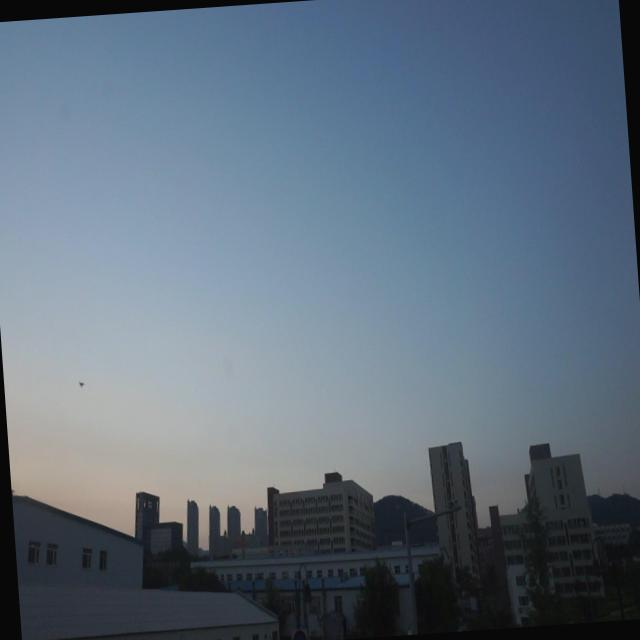drone: (76, 377, 85, 391)
